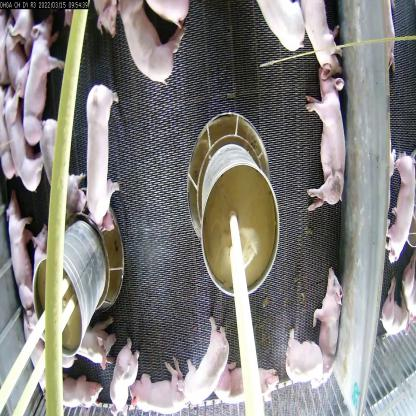Pig: (112, 0, 188, 92), (306, 64, 347, 217), (83, 81, 123, 233), (35, 110, 92, 216), (26, 16, 65, 144), (3, 84, 45, 197), (177, 321, 231, 406), (1, 198, 39, 312), (127, 352, 198, 410), (312, 264, 342, 389), (301, 0, 346, 81), (215, 357, 278, 411), (104, 335, 144, 415), (390, 148, 415, 271), (257, 0, 309, 57), (281, 323, 323, 391), (38, 368, 104, 409), (73, 314, 116, 370), (377, 273, 413, 339)
